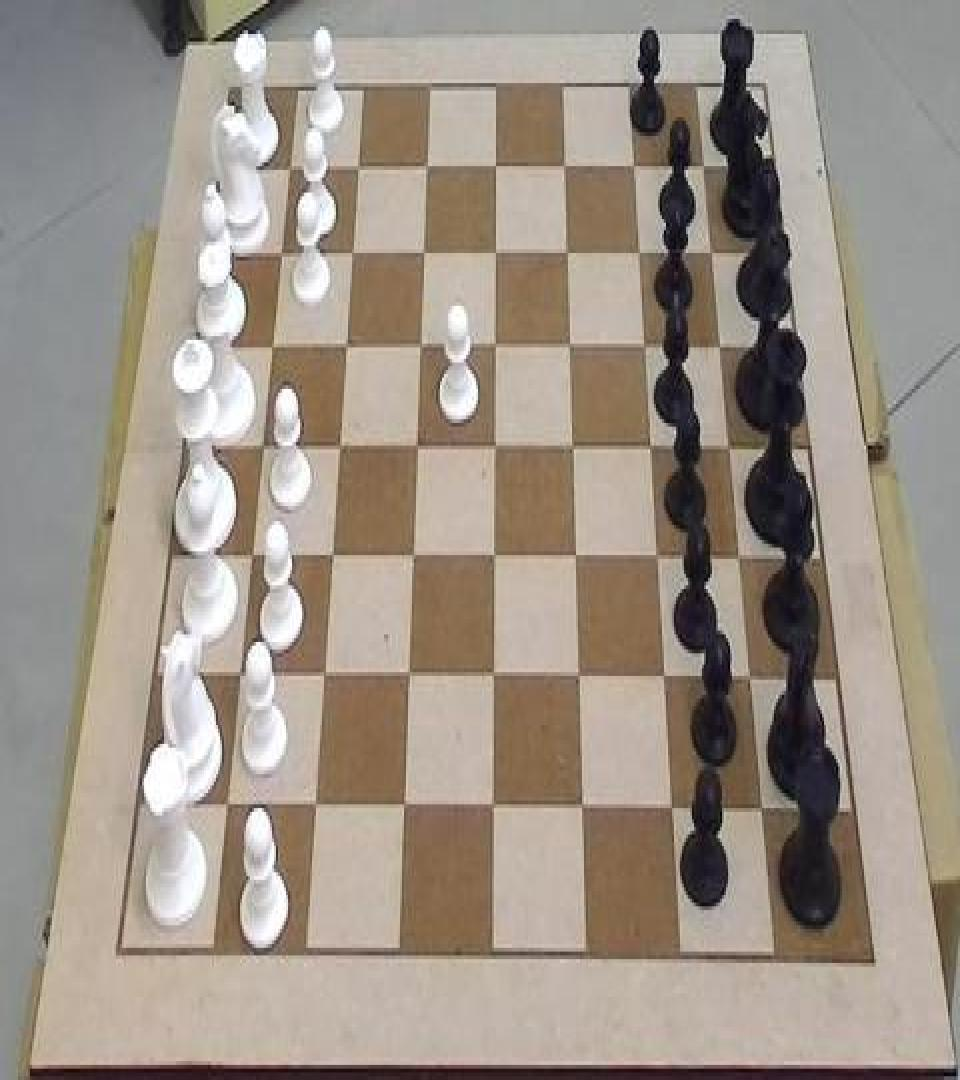xcorner: (694, 147, 714, 185), (624, 147, 644, 185), (554, 147, 574, 185), (484, 147, 504, 185), (415, 147, 435, 185), (345, 147, 365, 185), (276, 147, 296, 185), (702, 234, 722, 272), (629, 234, 649, 272), (556, 234, 576, 272), (484, 234, 504, 272), (412, 234, 432, 272), (340, 234, 360, 272), (268, 232, 288, 270), (710, 328, 730, 366), (634, 328, 654, 366), (559, 326, 579, 364), (484, 326, 504, 364), (409, 326, 429, 364), (334, 326, 354, 364), (259, 326, 279, 364), (719, 430, 739, 468), (640, 428, 660, 466), (562, 428, 582, 466), (484, 428, 504, 466), (405, 426, 425, 464), (327, 426, 347, 464), (250, 426, 270, 464), (729, 540, 749, 578), (647, 540, 667, 578), (565, 538, 585, 576), (483, 538, 503, 576), (402, 538, 422, 576), (320, 536, 340, 574), (239, 536, 259, 574), (740, 660, 760, 698), (654, 659, 674, 697), (568, 659, 588, 697), (483, 657, 503, 695), (398, 657, 418, 695), (313, 655, 333, 693), (228, 655, 248, 693), (752, 793, 772, 831), (662, 791, 682, 829), (572, 791, 592, 829), (483, 789, 503, 827), (393, 787, 413, 825), (304, 787, 324, 825), (216, 786, 236, 824)
